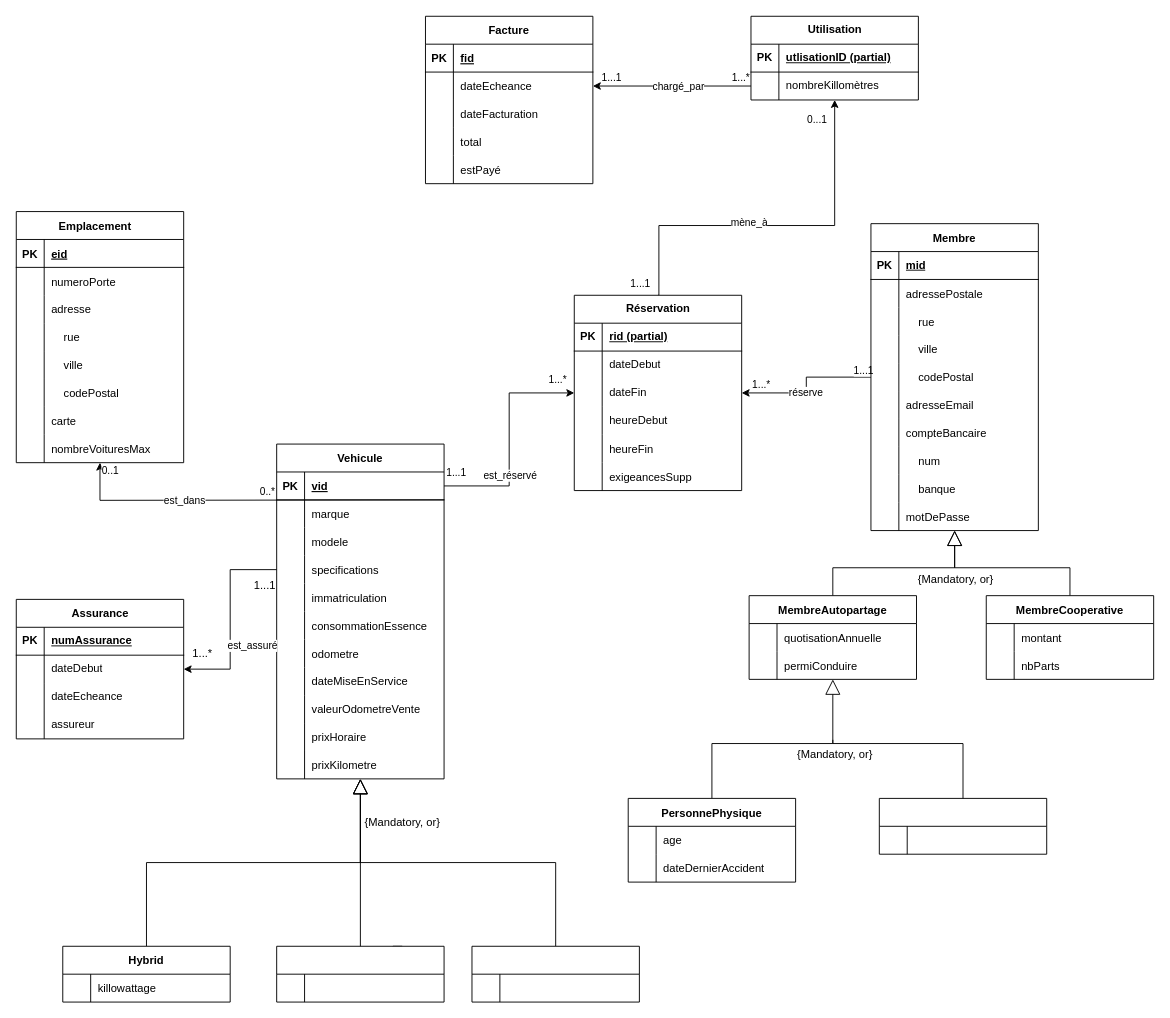
Image size: 1170x1018. Some labels were removed from this diagram. Here are the shapes that lost their labels. From the top down, the centre of each, then its label:
At pixel 962 825: "PersonneMorale".
At pixel 360 973: "Régulier".
At pixel 555 973: "Mini Camionette".
